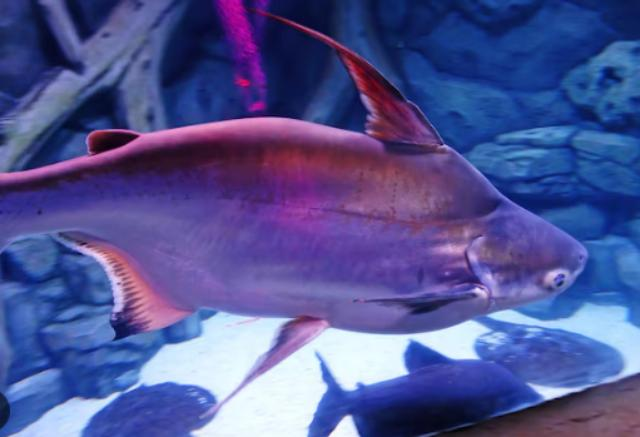Sirip Anal: (49, 224, 191, 344)
Sirip Dada: (362, 264, 486, 322)
Sirip Perut: (199, 293, 331, 427)
Sirip Punggung: (252, 2, 442, 150)
